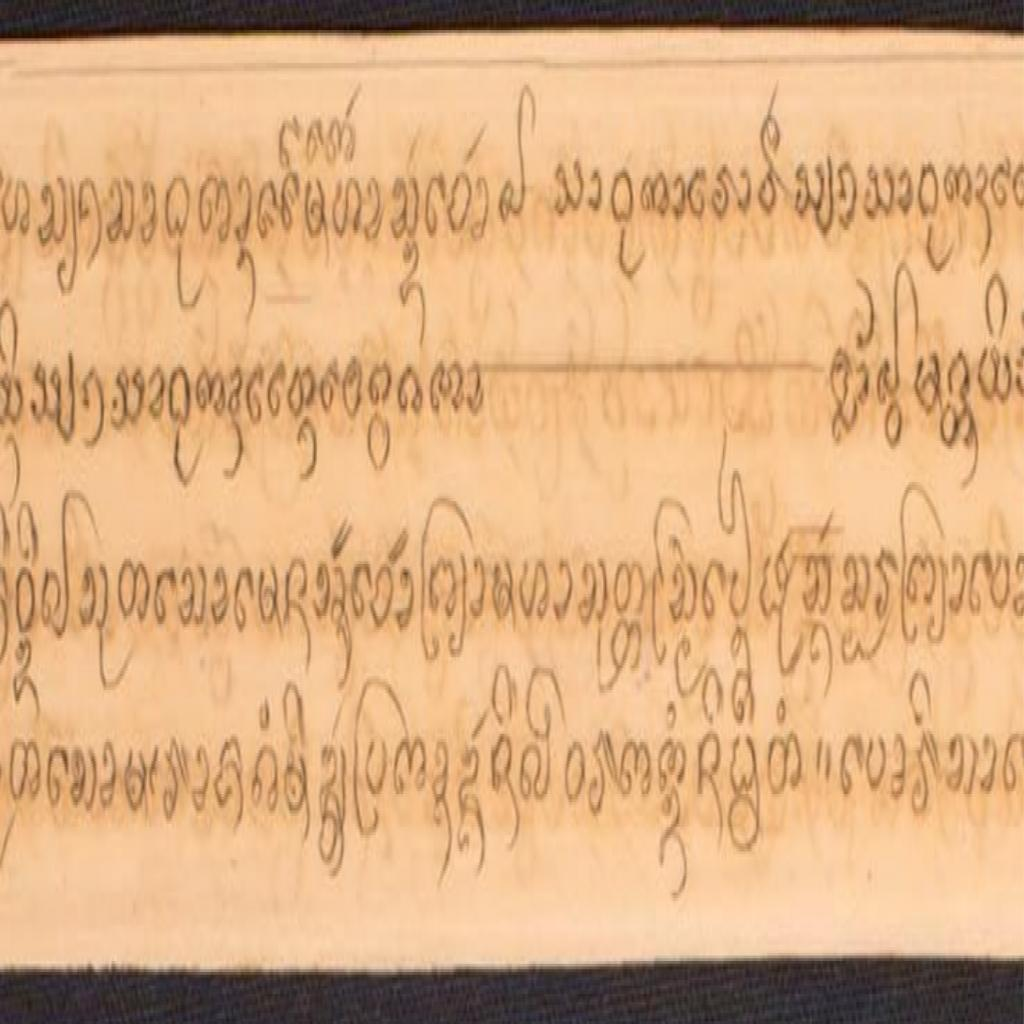LN007: (839, 547, 874, 622)
